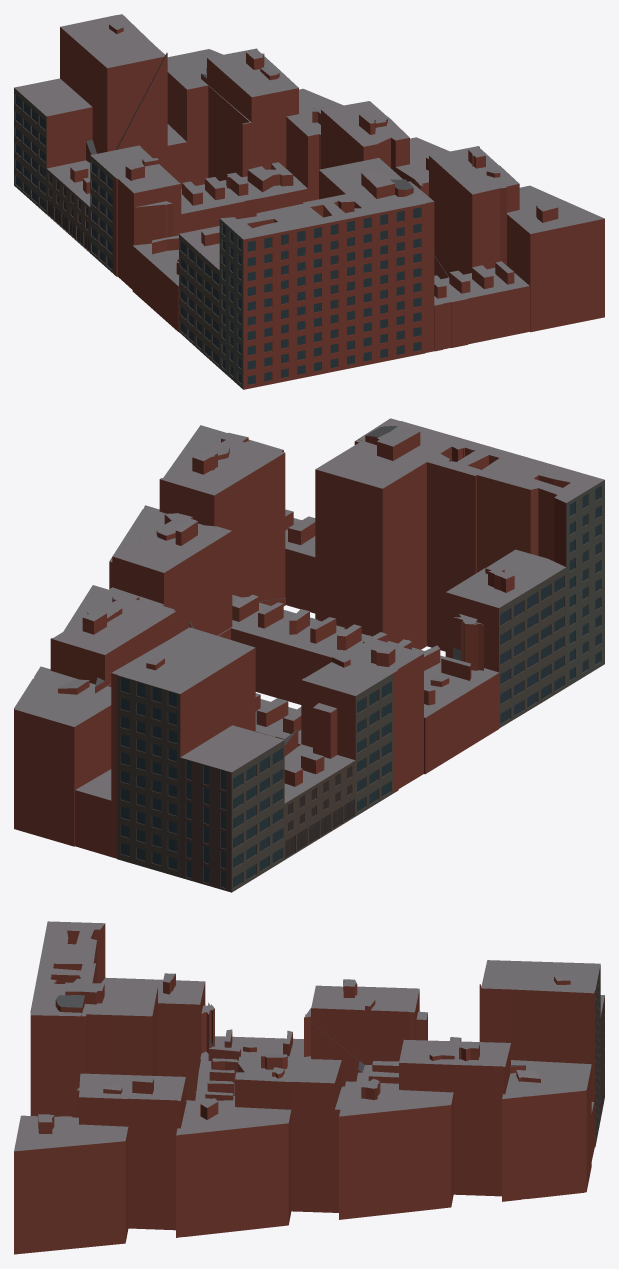
File: recipe-large-westerdok-748-186003.glb
3 renders of one model, top to bottom at view 1: azimuth 30°, elevation 25°; view 2: azimuth 150°, elevation 25°; view 3: azimuth 270°, elevation 25°, orthographic. The views are drawn at different scales.
Parts seen in each view (by area): view 1: westerdok-748-186003; view 2: westerdok-748-186003; view 3: westerdok-748-186003.
Boxes of the visible parts, x1,y1,x2,y2 form: westerdok-748-186003: (14, 14, 604, 389); westerdok-748-186003: (14, 418, 604, 892); westerdok-748-186003: (14, 921, 604, 1254).
Size of the model in its own units: 84.96 by 37.99 by 120.
